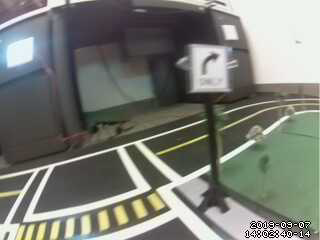Right_only_sign: (191, 42, 232, 90)
